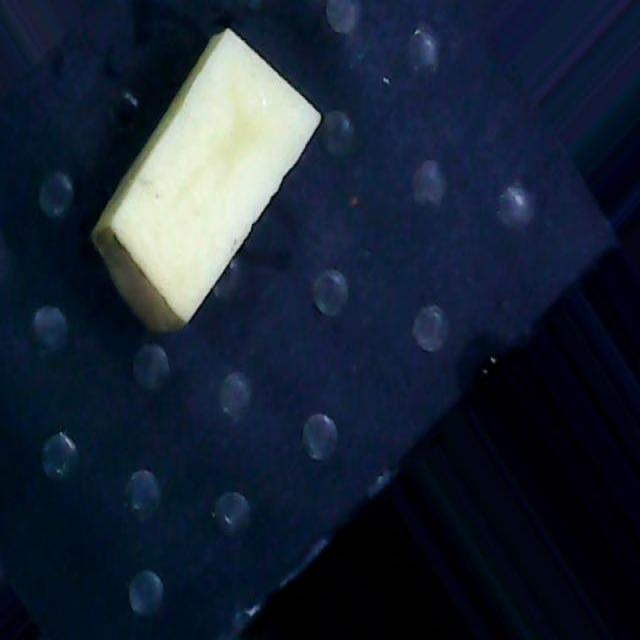-Kitchen waste - potato-: (96, 23, 325, 329)
